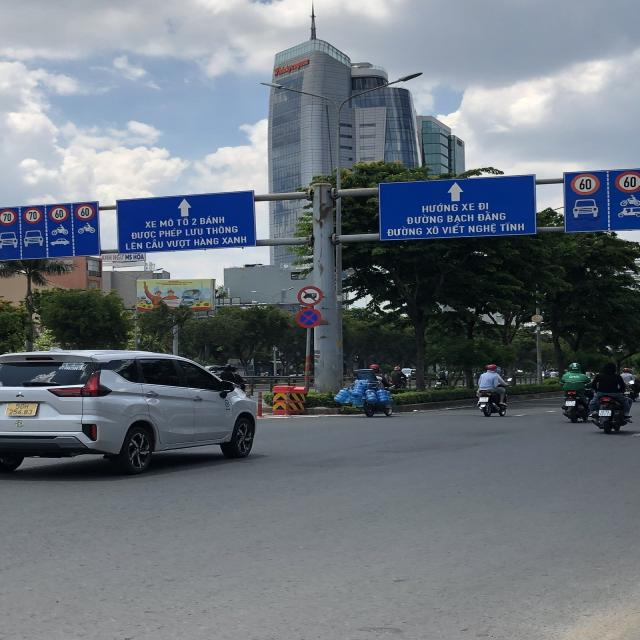Bien bao cam dung xe va do xe: (293, 307, 326, 333)
Bien bao cam xe oto tai: (292, 285, 324, 307)
Bien bao toc do toi da cho phep: (567, 171, 607, 198), (614, 170, 640, 195), (44, 203, 71, 224), (20, 205, 42, 224), (74, 202, 96, 221), (0, 209, 18, 226)
